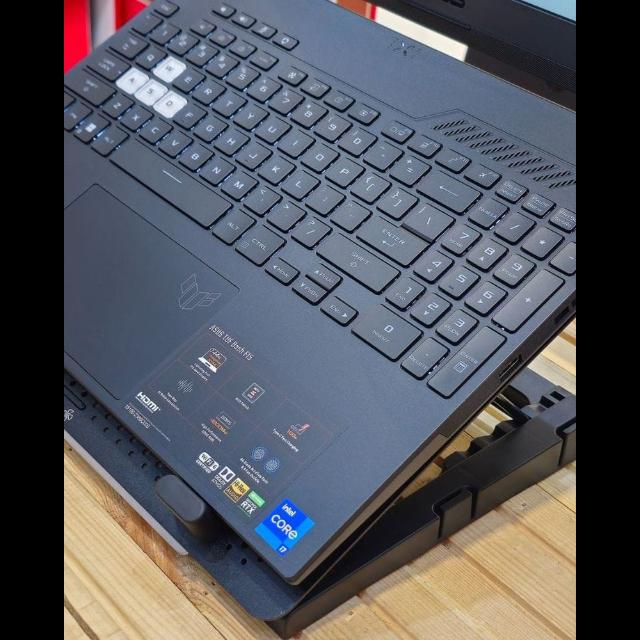laptop: (70, 0, 576, 564)
